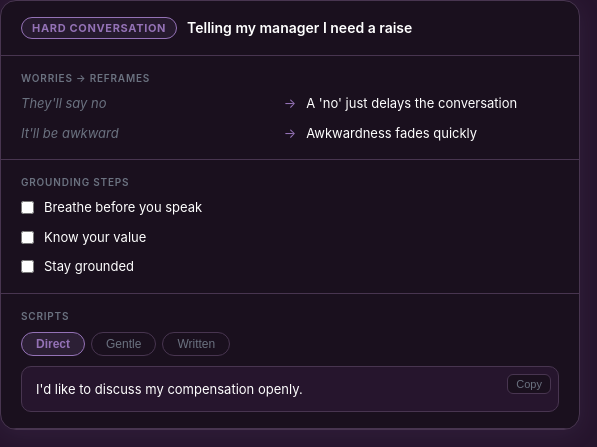
PrepWidget — scripts section for hard_conversation › clicking Written tab shows written script text
Click the button "Written" at x=196, y=344, box [162, 332, 230, 356]
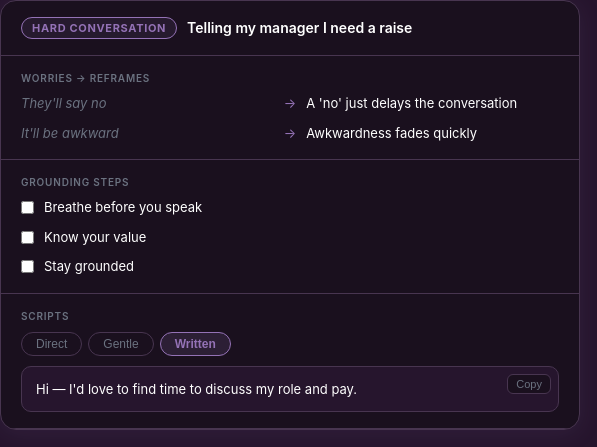
Check: the text "Hi — I'd love to find time to discuss my role and pay." is shown, box [21, 366, 559, 412]
